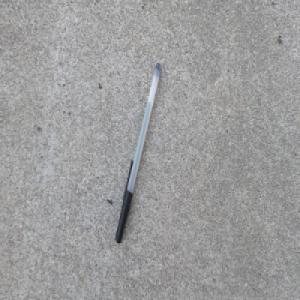Pen: (113, 60, 161, 245)
